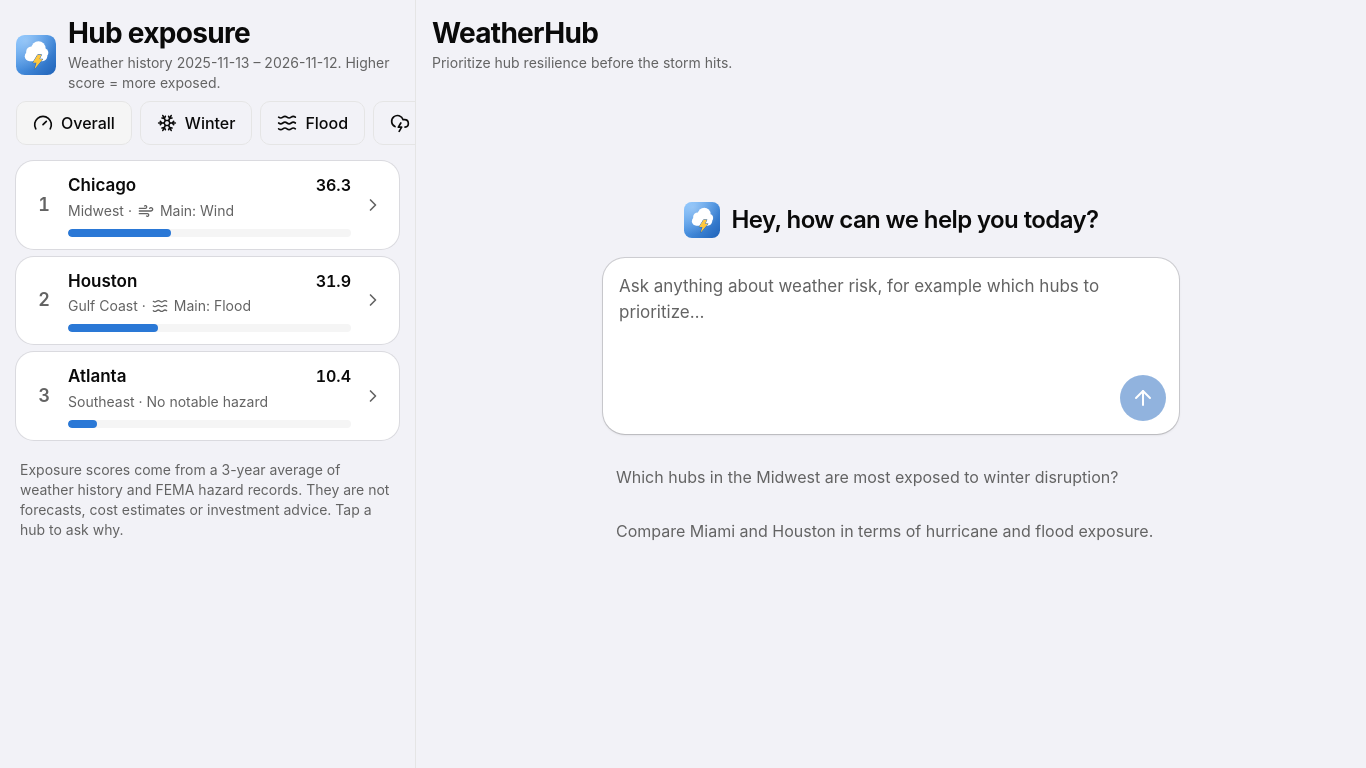
Test: Chat › starts fresh when New chat is tapped
Click the button "Which hubs in the Midwest are most exposed to winter disruption?". click: (891,477)
box: [603,454,1179,500]
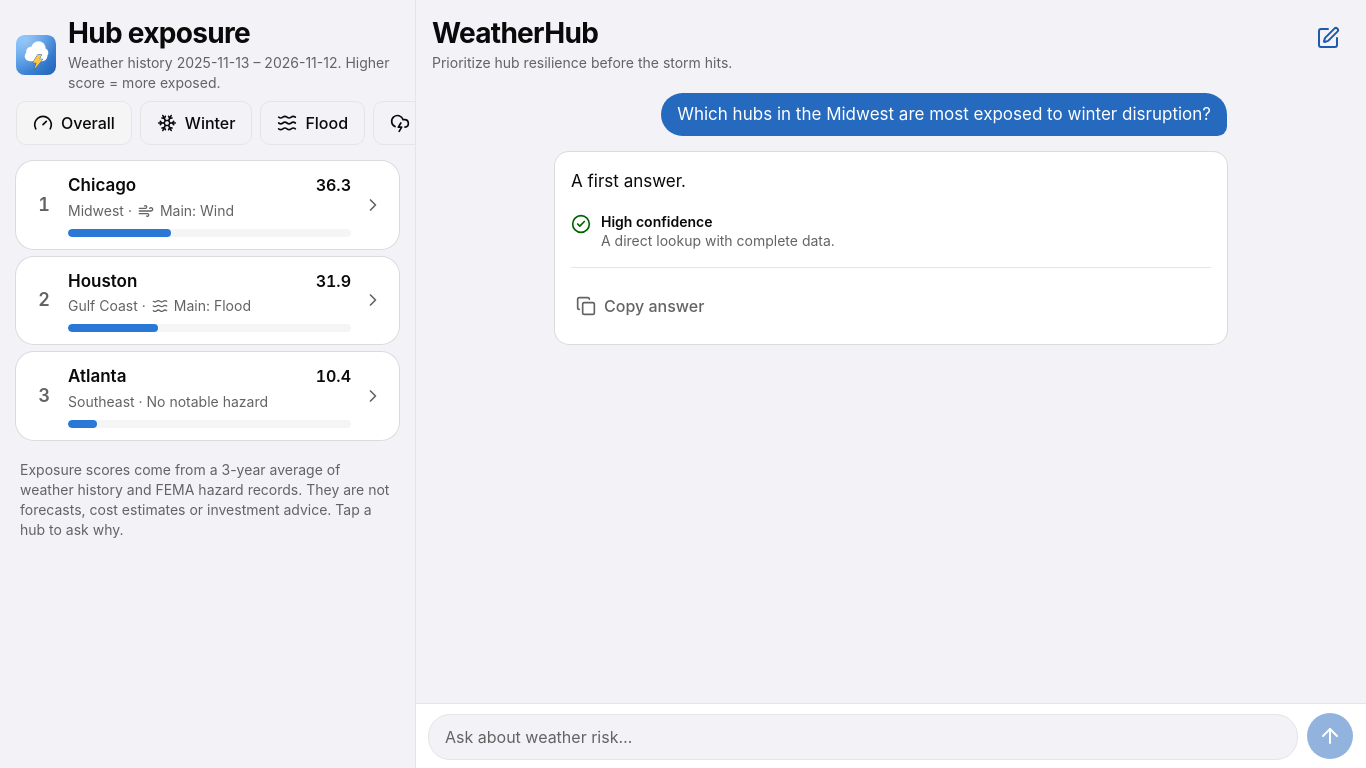
Now the text "A first answer." is shown, box [571,171,686,191]
Click the button named "New chat". click: (1328,38)
box: [1306,16,1350,60]
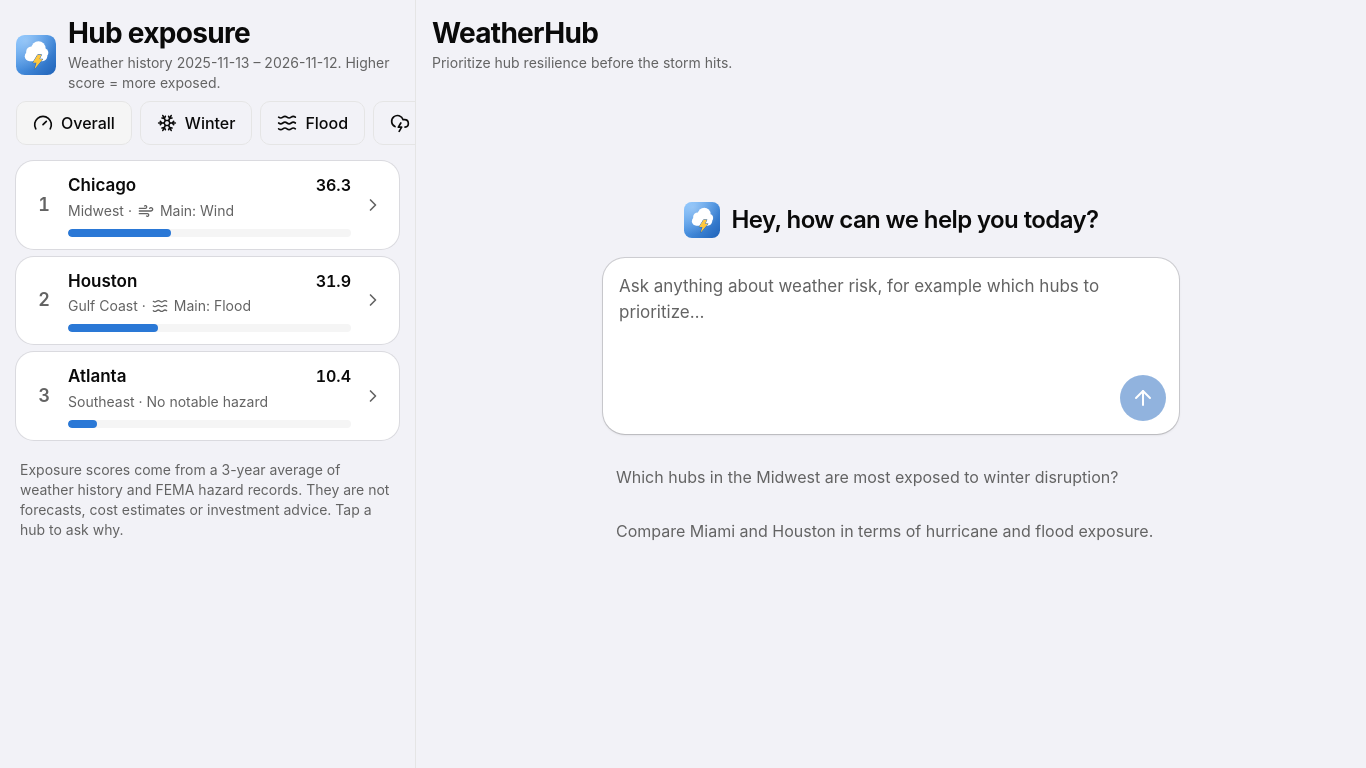
Now the text "A first answer." is gone
Now the button "Which hubs in the Midwest are most exposed to winter disruption?" is shown, box [603,454,1179,500]
